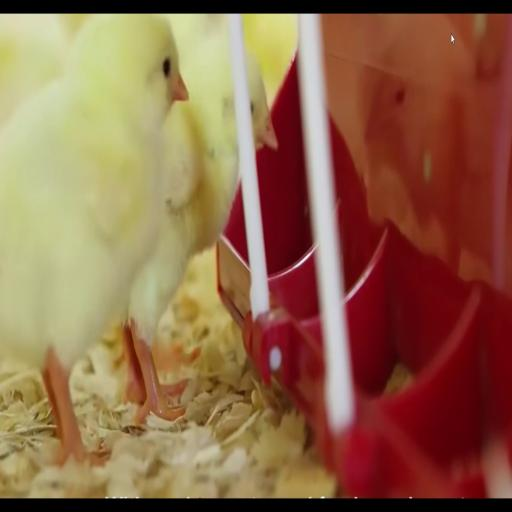chick: (0, 14, 187, 463), (124, 31, 238, 422)
